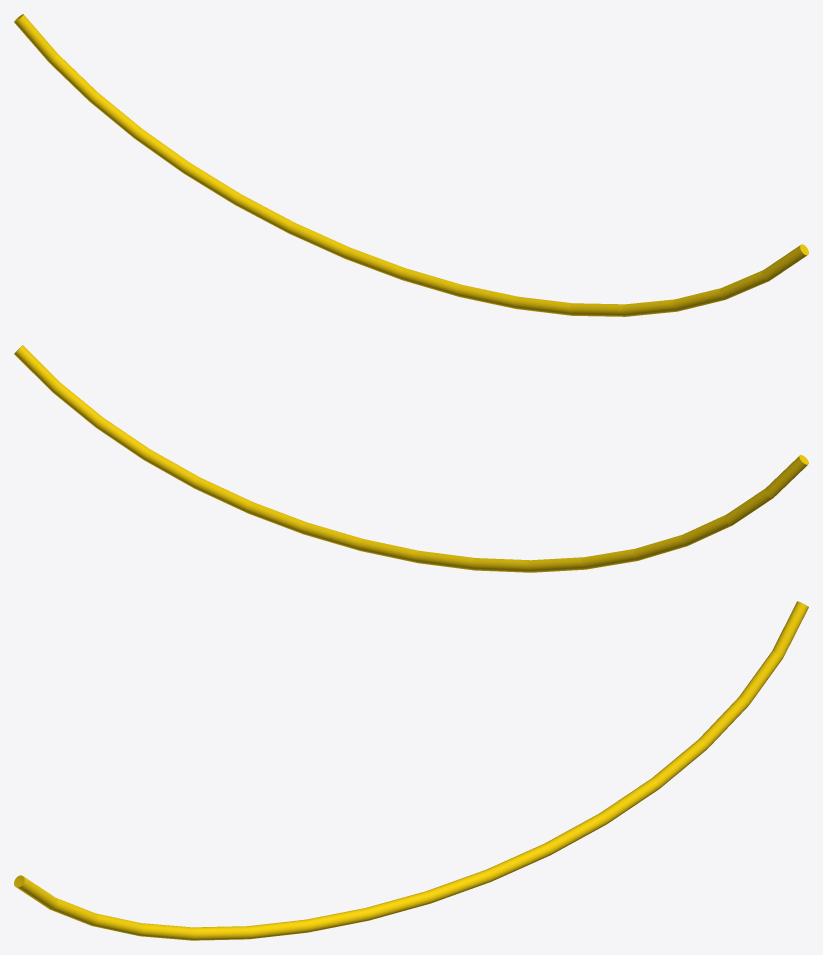
The model's file is Event_421127236_track_12.fbx.
3 renders of one model, top to bottom at view 1: azimuth 30°, elevation 25°; view 2: azimuth 210°, elevation 25°; view 3: azimuth 270°, elevation 25°, orthographic. The views are drawn at different scales.
Parts seen in each view (by area): view 1: Model; view 2: Model; view 3: Model.
Boxes of the visible parts, bbox=[...] form: Model: bbox=[14, 14, 808, 316]; Model: bbox=[14, 345, 808, 572]; Model: bbox=[14, 601, 808, 940].
Size of the model in its own units: 1.55 by 0.6602 by 2.39.
